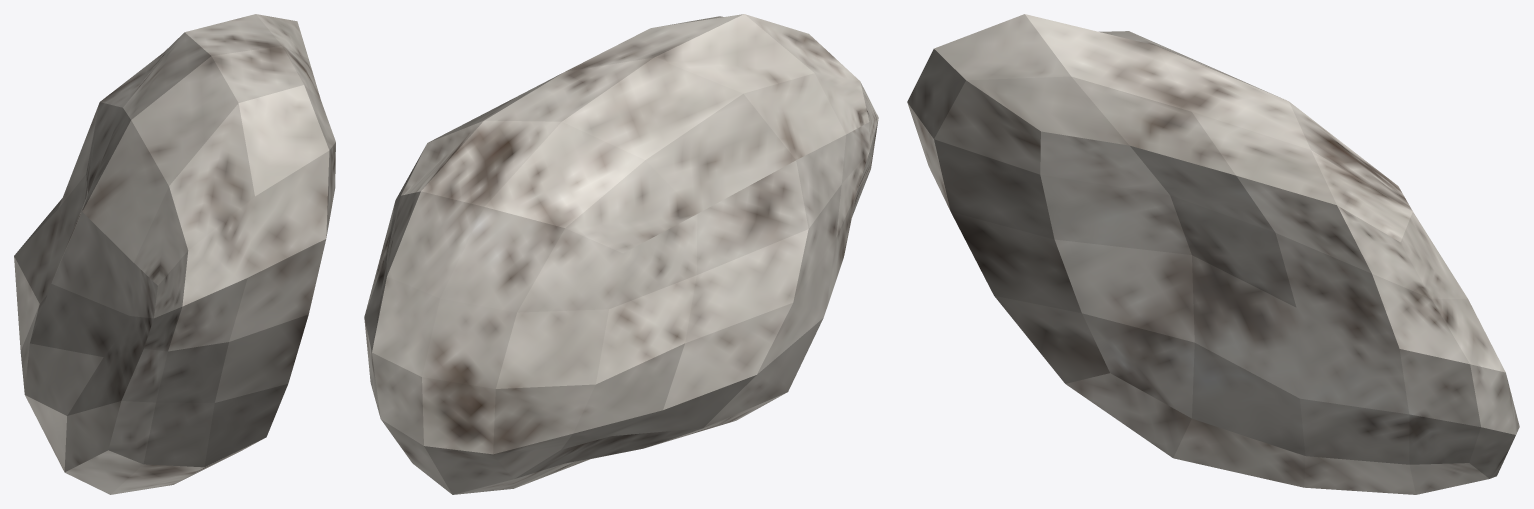
Rendered from Rock_kapec.fbx.
3 renders of one model, left to right at view 1: azimuth 30°, elevation 25°; view 2: azimuth 150°, elevation 25°; view 3: azimuth 270°, elevation 25°, orthographic. The views are drawn at different scales.
Visible parts, largest first — view 1: Rock_kapec; view 2: Rock_kapec; view 3: Rock_kapec.
Part boxes in pixels (left/top/right/bottom): Rock_kapec: left=14, top=14, right=335, bottom=494; Rock_kapec: left=364, top=14, right=878, bottom=494; Rock_kapec: left=907, top=14, right=1519, bottom=494.
Size of what is drawn, in the model's own units: 226 by 254 by 331.
